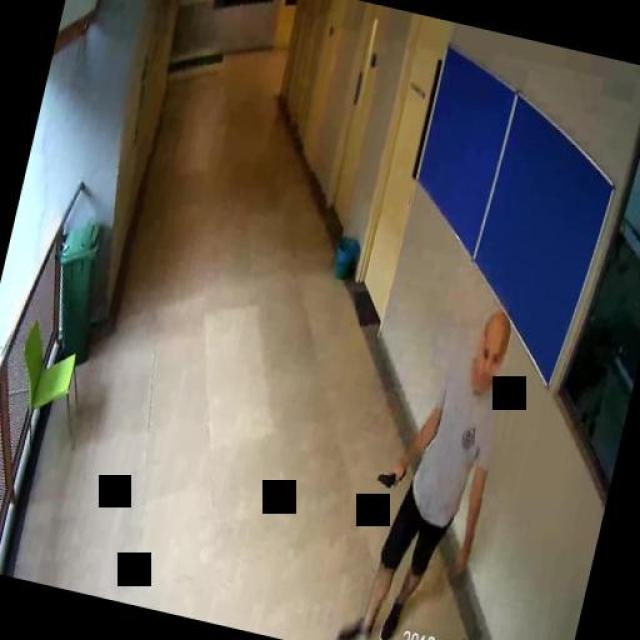gun: (375, 460, 406, 490)
